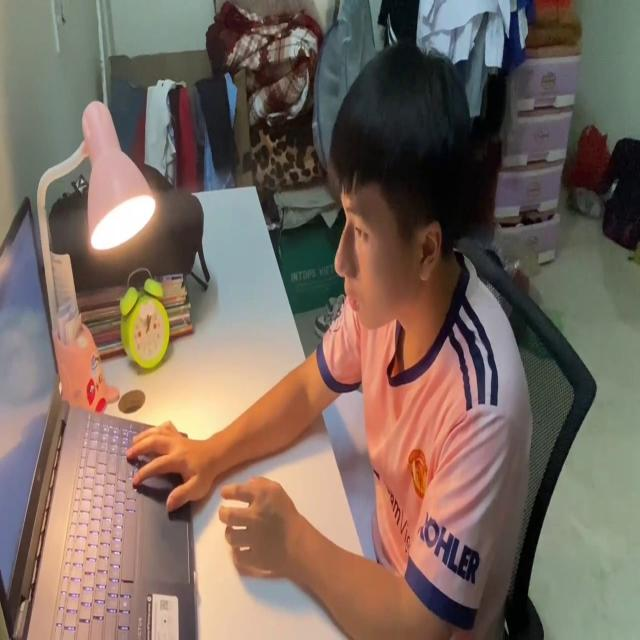book: (321, 389, 383, 577)
laptop: (0, 192, 201, 640)
student: (126, 41, 532, 640)
